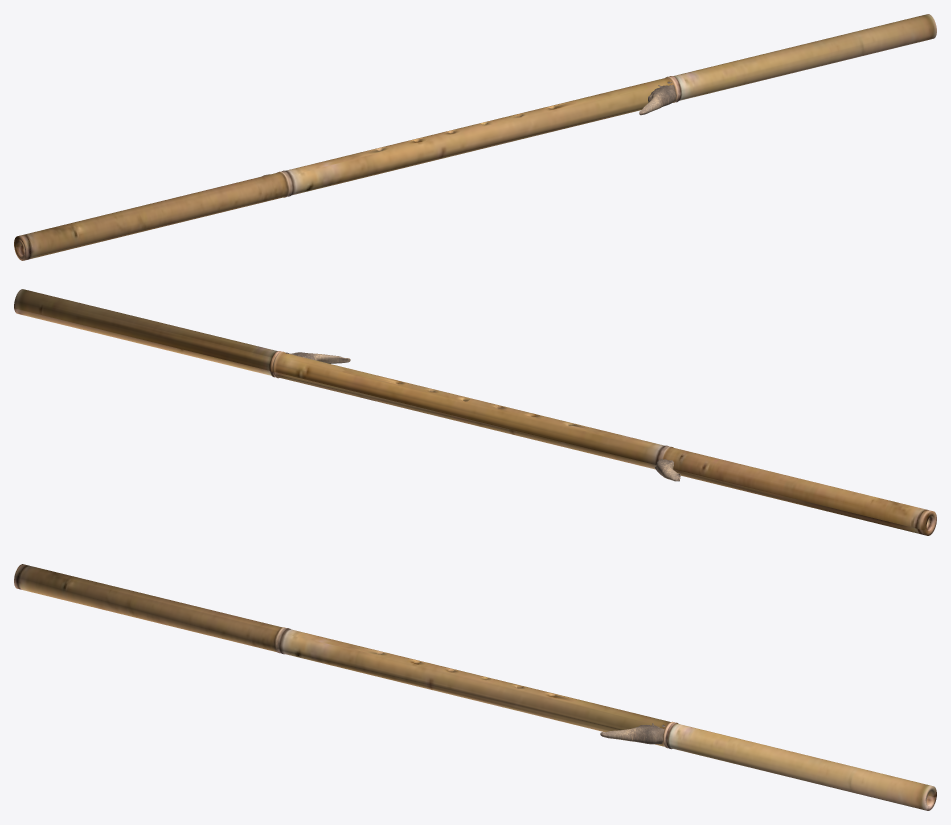
The model's file is pullaang.glb.
3 renders of one model, top to bottom at view 1: azimuth 30°, elevation 25°; view 2: azimuth 150°, elevation 25°; view 3: azimuth 330°, elevation 25°, orthographic.
Parts seen in each view (by area): view 1: Cylinder.001, Cylinder.002; view 2: Cylinder.001, Cylinder.002; view 3: Cylinder.001, Cylinder.002.
Boxes of the visible parts, x1=… form: Cylinder.001: x1=14, y1=14, x2=936, y2=260; Cylinder.002: x1=262, y1=81, x2=676, y2=176; Cylinder.001: x1=14, y1=289, x2=936, y2=535; Cylinder.002: x1=286, y1=352, x2=680, y2=481; Cylinder.001: x1=14, y1=564, x2=936, y2=810; Cylinder.002: x1=287, y1=628, x2=665, y2=744.
Size of the model in its own units: 0.9584 by 0.0247 by 0.0614.
2 materials, 2 textured.
